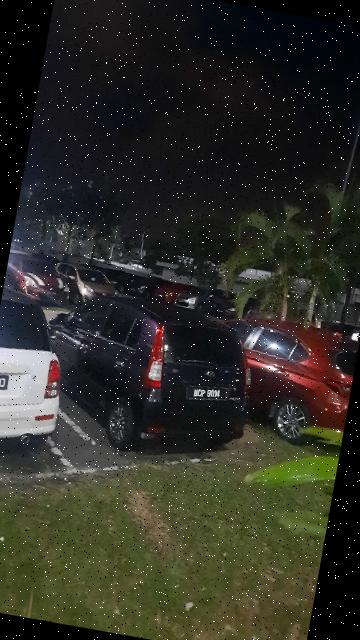License_Plate: (183, 379, 238, 411)
car: (31, 279, 267, 467), (200, 306, 360, 454), (1, 280, 80, 468)
